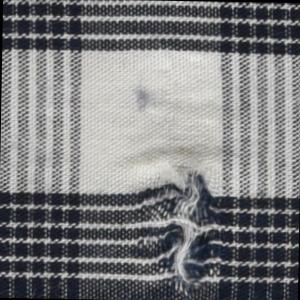Damage: (129, 163, 233, 300)
Stain: (130, 84, 156, 117)
